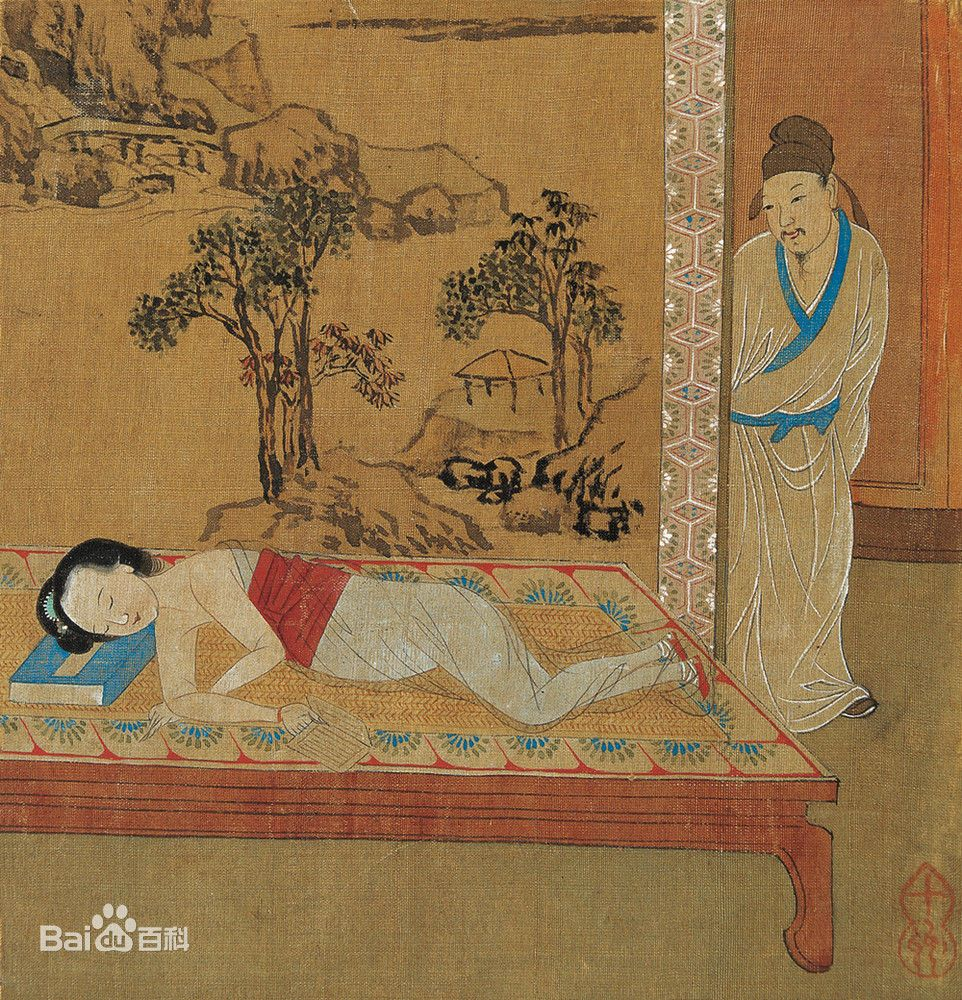bridge: (57, 113, 209, 155)
decoration: (294, 705, 362, 775)
man: (729, 150, 886, 724)
mountain: (6, 7, 503, 222)
tree: (468, 219, 617, 342), (237, 309, 283, 484), (245, 197, 334, 276), (284, 298, 320, 456), (311, 336, 387, 397), (138, 290, 223, 326), (550, 340, 566, 435), (579, 343, 593, 419)
woman: (56, 555, 705, 714)
